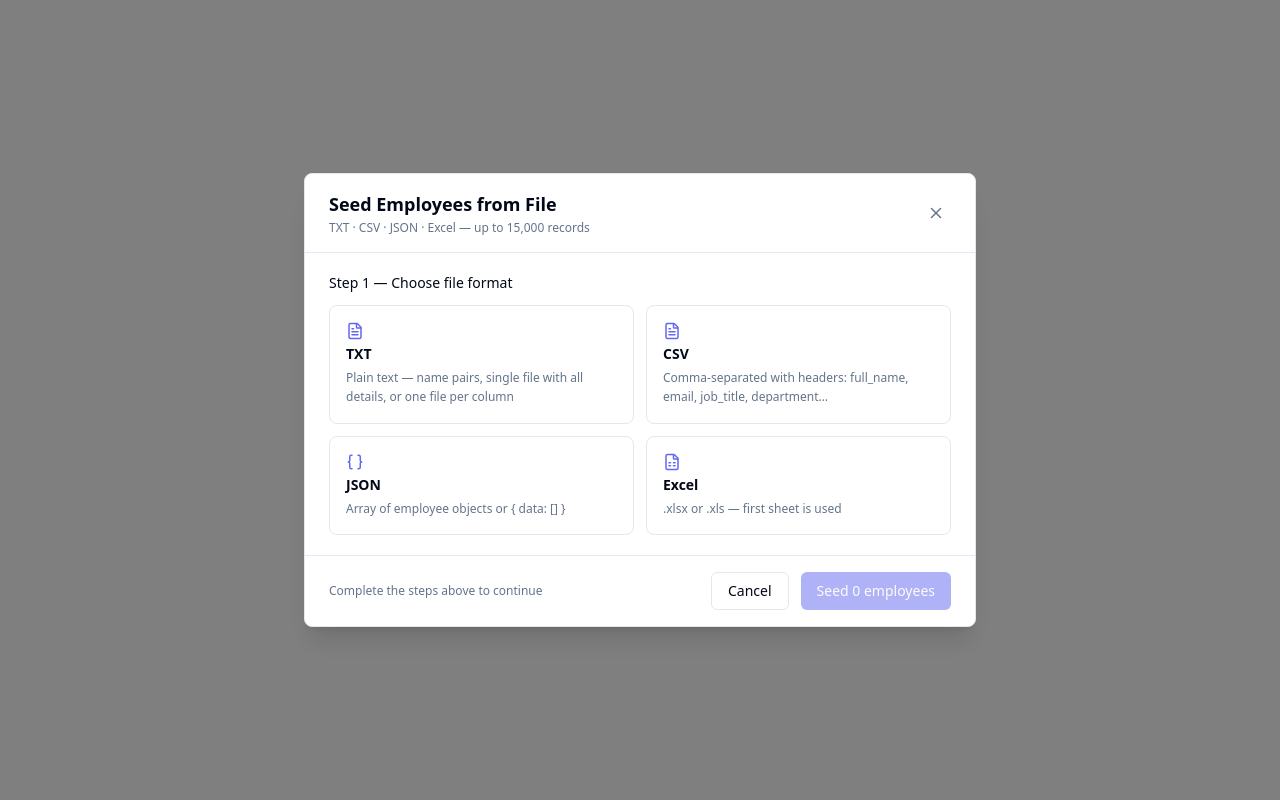
it: SeedUploader › should show upload step after selecting TXT pair format
The width and height of the screenshot is (1280, 800).
What coordinates should you click on to do the following:
click the text "TXT"
I would click on:
 (359, 353)
Its box is [346,344,372,363].
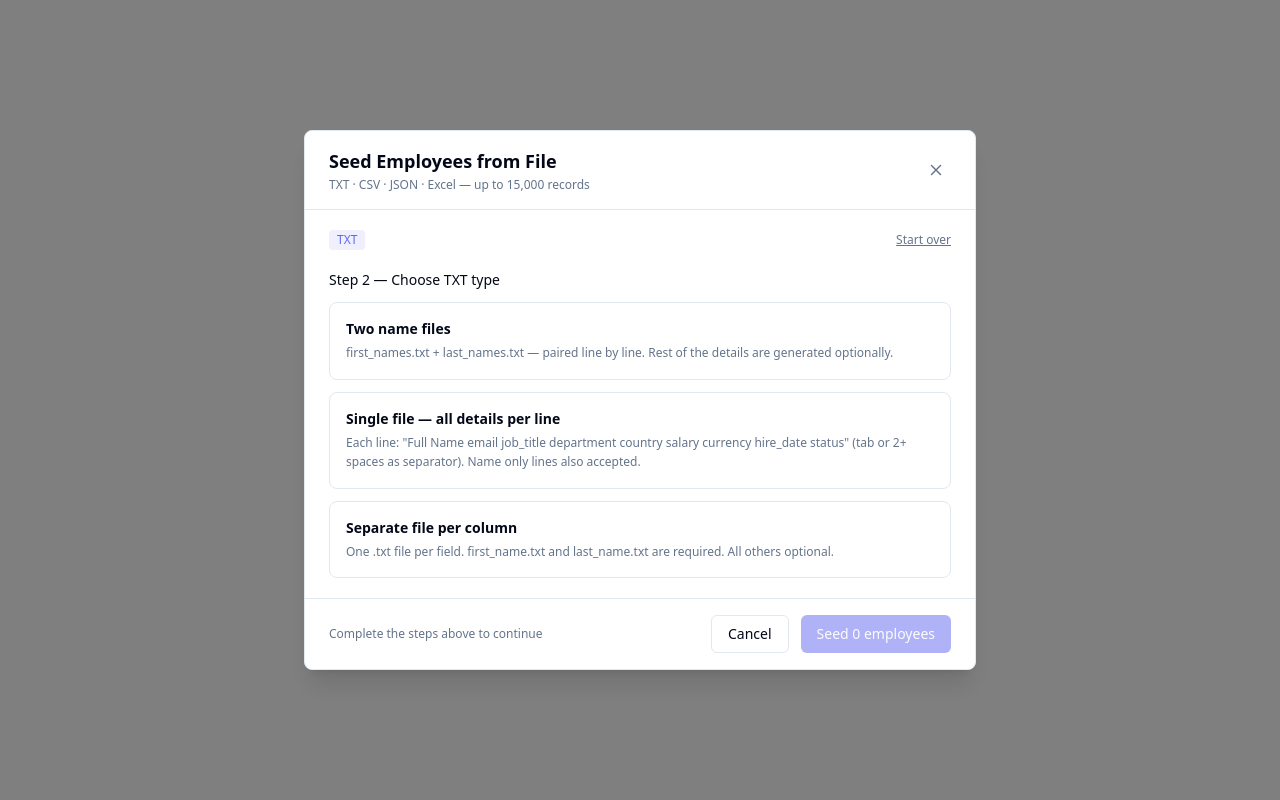
What coordinates should you click on to do the following:
click the text "Two name files"
I would click on:
 (398, 328)
Its box is [346,319,451,338].
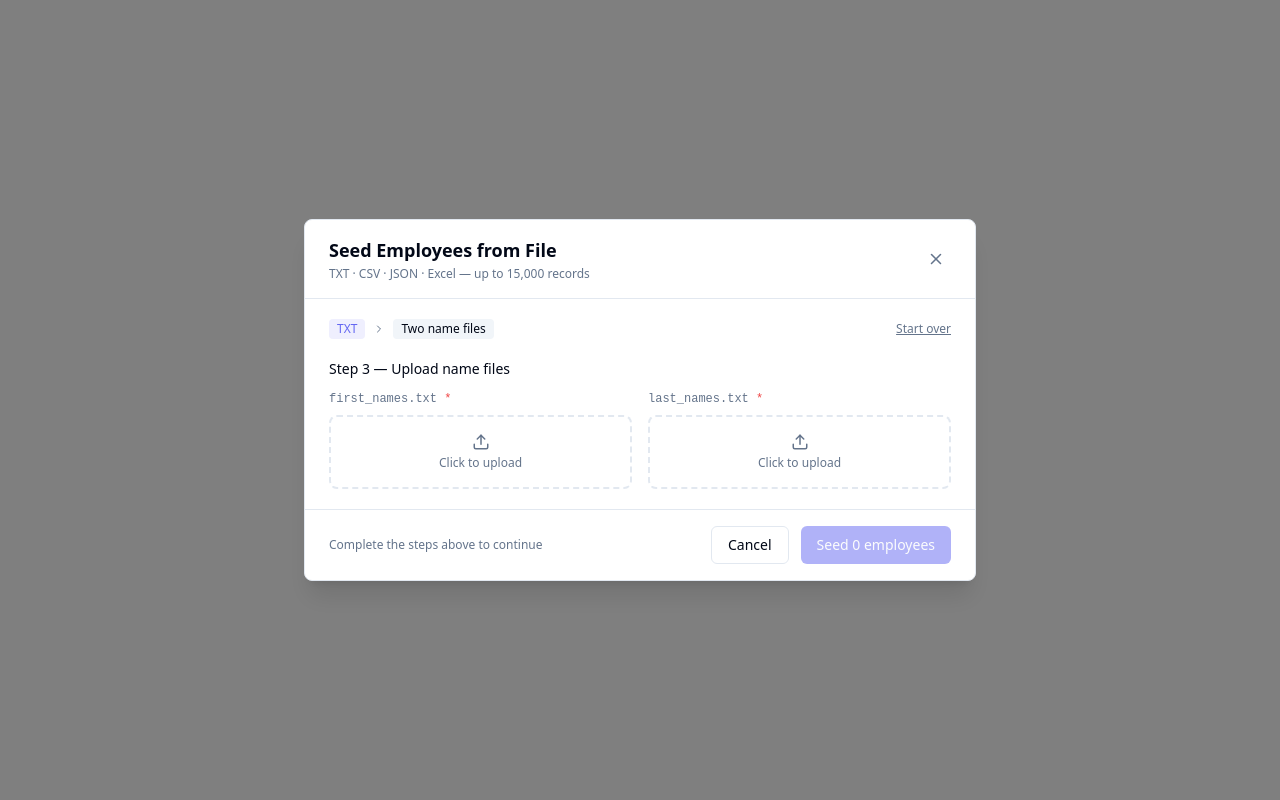
Result: the text "Step 3 — Upload name files" is shown at [329,359,510,378]
